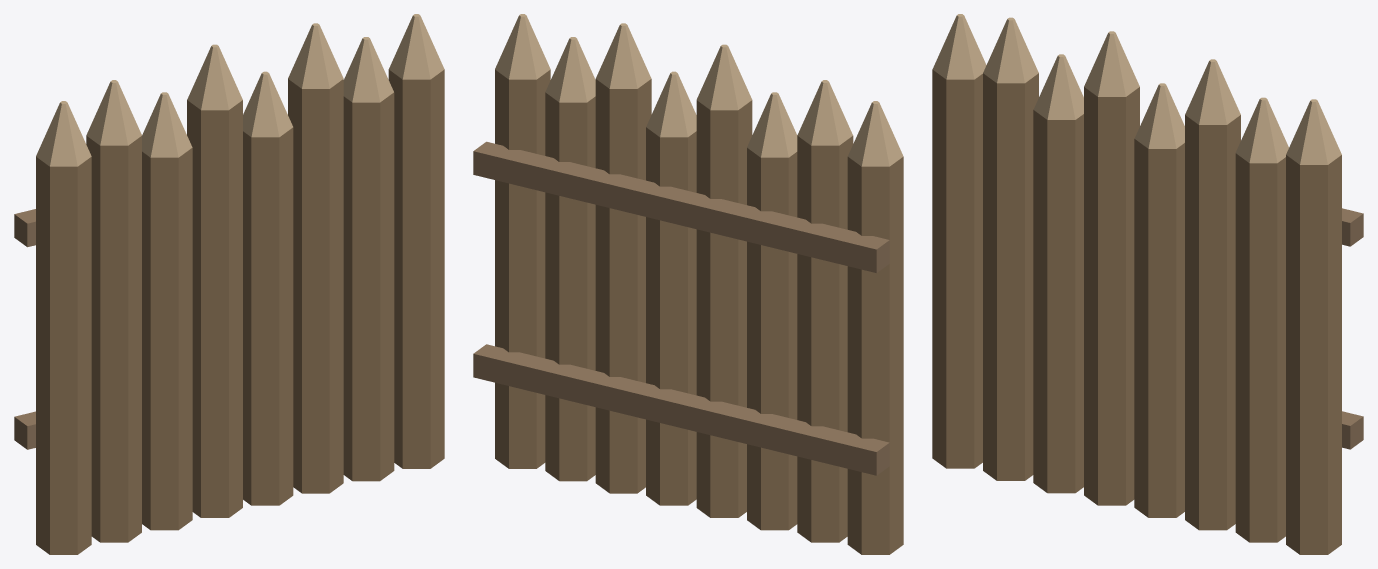
The model's file is wall_palisade.glb.
3 renders of one model, left to right at view 1: azimuth 30°, elevation 25°; view 2: azimuth 150°, elevation 25°; view 3: azimuth 330°, elevation 25°, orthographic.
Visible parts, largest first — view 1: Stake, Stake#4, Stake#6, Stake#2, Stake#8, Stake#7, Stake#3, Stake#5, Stake.Tip#4, Stake.Tip#8, Stake.Tip#2, Stake.Tip (+6 smaller); view 2: Stake, Stake#4, Stake#6, Stake#2, Stake#8, Stake#7, Stake#3, Stake#5, Rail, Rail#2, Stake.Tip#4, Stake.Tip#8 (+6 smaller); view 3: Stake#8, Stake#4, Stake#6, Stake#2, Stake, Stake#7, Stake#3, Stake#5, Stake.Tip#2, Stake.Tip#4, Stake.Tip#6, Stake.Tip#8 (+6 smaller).
Boxes of the visible parts, <box> form: Stake: <box>36,157,91,554</box>; Stake#4: <box>187,100,242,517</box>; Stake#6: <box>288,79,343,493</box>; Stake#2: <box>86,136,141,542</box>; Stake#8: <box>388,69,444,468</box>; Stake#7: <box>343,92,394,481</box>; Stake#3: <box>142,148,192,530</box>; Stake#5: <box>243,127,293,505</box>; Stake.Tip#4: <box>187,44,242,110</box>; Stake.Tip#8: <box>389,14,444,79</box>; Stake.Tip#2: <box>86,80,141,145</box>; Stake.Tip: <box>36,101,91,166</box>; Stake: <box>847,156,903,554</box>; Stake#4: <box>696,100,752,517</box>; Stake#6: <box>595,79,651,493</box>; Stake#2: <box>797,136,853,542</box>; Stake#8: <box>495,69,550,468</box>; Stake#7: <box>545,92,595,481</box>; Stake#3: <box>747,148,797,530</box>; Stake#5: <box>646,127,696,505</box>; Rail: <box>473,344,889,475</box>; Rail#2: <box>473,141,889,272</box>; Stake.Tip#4: <box>696,44,752,110</box>; Stake.Tip#8: <box>495,14,550,79</box>; Stake#8: <box>1286,155,1341,554</box>; Stake#4: <box>1084,87,1139,505</box>; Stake#6: <box>1185,115,1240,530</box>; Stake#2: <box>983,73,1038,480</box>; Stake: <box>932,69,982,468</box>; Stake#7: <box>1235,153,1285,542</box>; Stake#3: <box>1033,110,1083,493</box>; Stake#5: <box>1134,139,1184,517</box>; Stake.Tip#2: <box>983,17,1038,83</box>; Stake.Tip#4: <box>1084,31,1139,96</box>; Stake.Tip#6: <box>1185,59,1240,124</box>; Stake.Tip#8: <box>1286,99,1341,164</box>.
Bounding box in the file's own units: 2.5 × 2.74 × 0.41.
